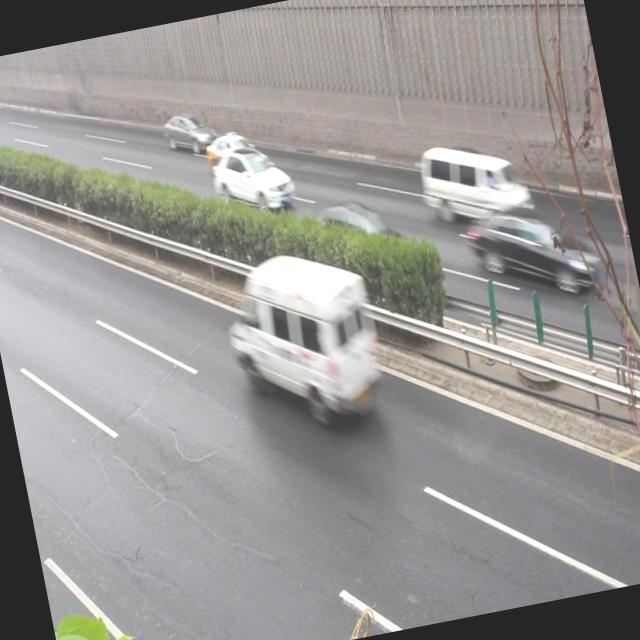car: (222, 242, 391, 430), (467, 193, 592, 304), (296, 189, 420, 291), (210, 137, 300, 217), (206, 124, 274, 178), (165, 105, 221, 154)
